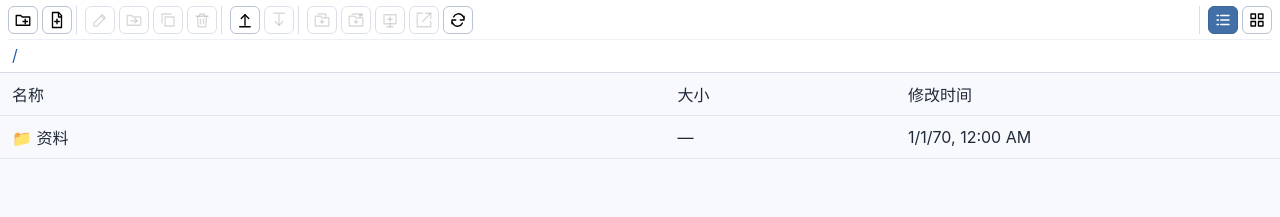
Test: FileManagerBrowser › exports a selected directory through the existing download button
Click the text "资料": click(333, 137) [0, 116, 666, 158]
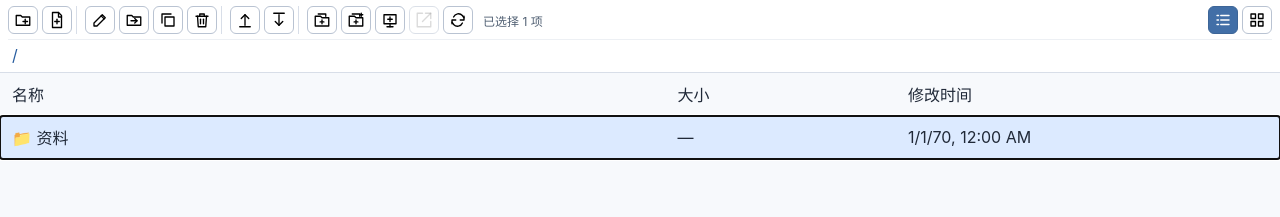
Click the button named "将目录导出为 ZIP": click(279, 20) [264, 6, 294, 34]
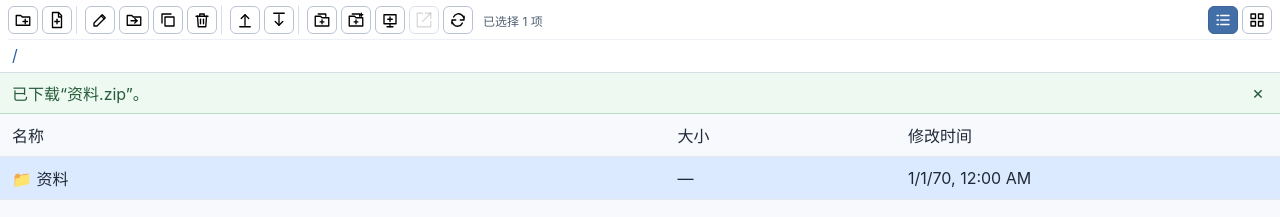
Result: the text "已下载“资料.zip”。" is shown at [12, 84, 149, 104]
